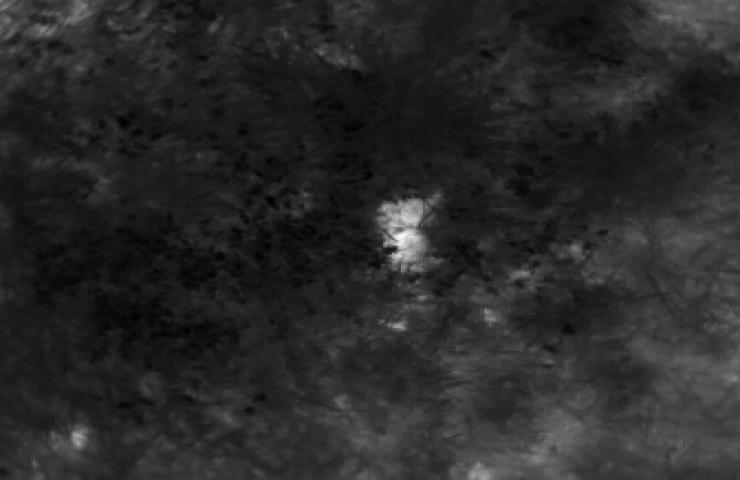landmines: (378, 194, 454, 275)
